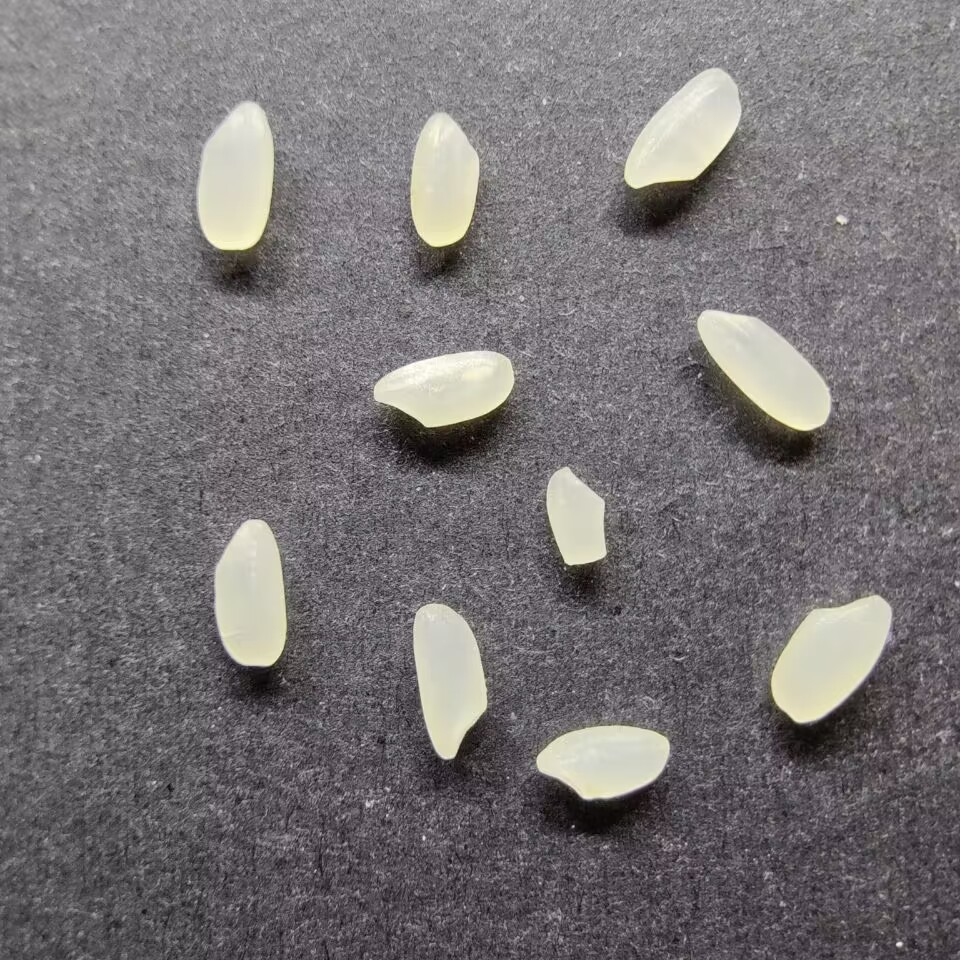broken: (543, 464, 611, 566)
rice: (694, 307, 833, 433), (769, 593, 893, 725), (623, 65, 743, 190), (411, 602, 490, 761), (195, 99, 273, 252), (211, 518, 287, 667), (371, 350, 513, 429), (534, 722, 670, 801), (407, 109, 482, 248)
